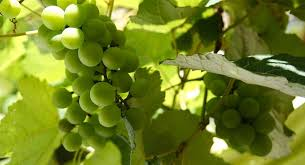Green grapes: (46, 9, 135, 145), (214, 73, 277, 156)
